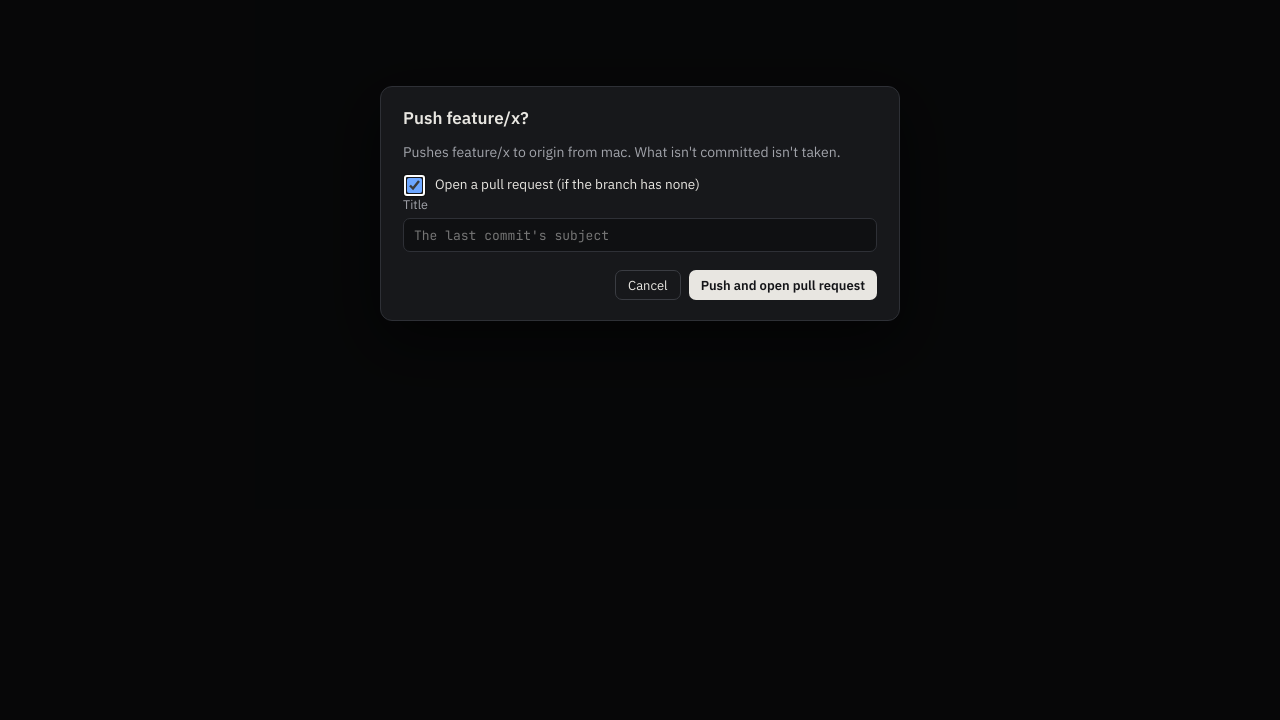
Test: the workspace dialogs › publishes the branch, asks for a pull request and links it
The width and height of the screenshot is (1280, 720).
What coordinates should you click on to do the following:
click the button "Push and open pull request"
I would click on:
 (783, 285)
Its box is [689,270,877,300].
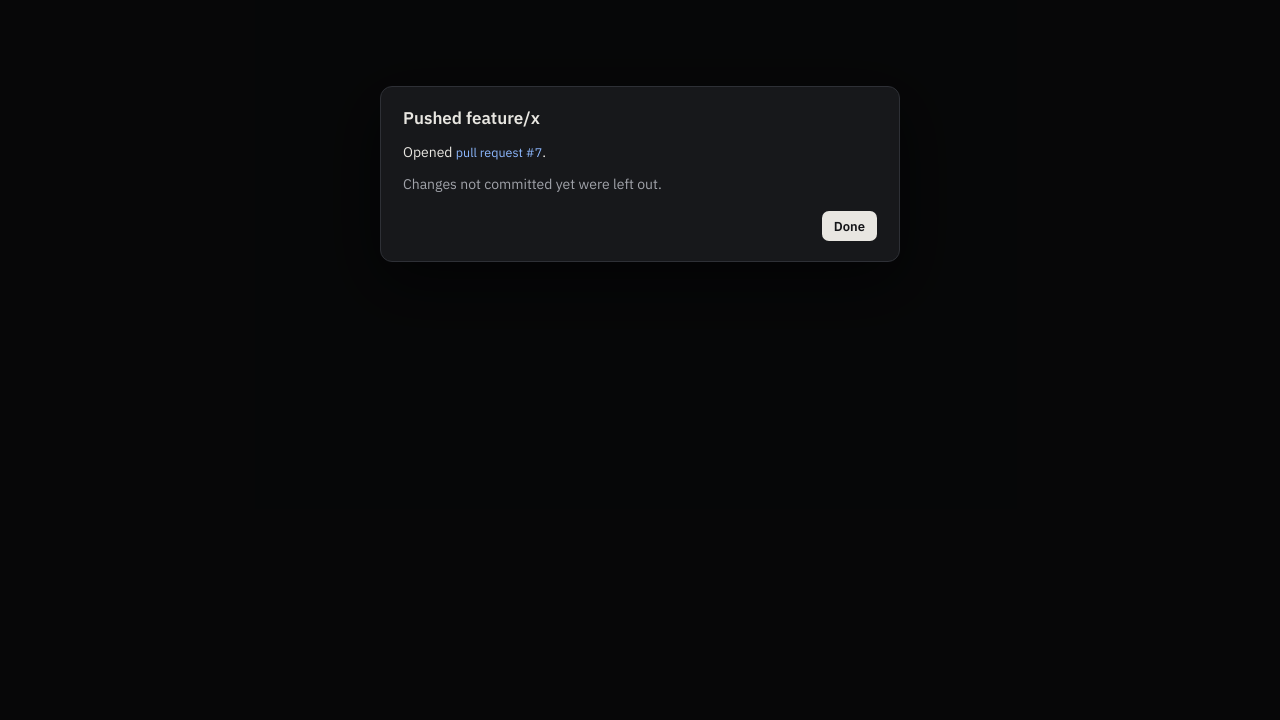
Result: the text "pull request #7" is shown at [456,144,542,160]
Result: the text "left out" is shown at [403,175,662,193]
